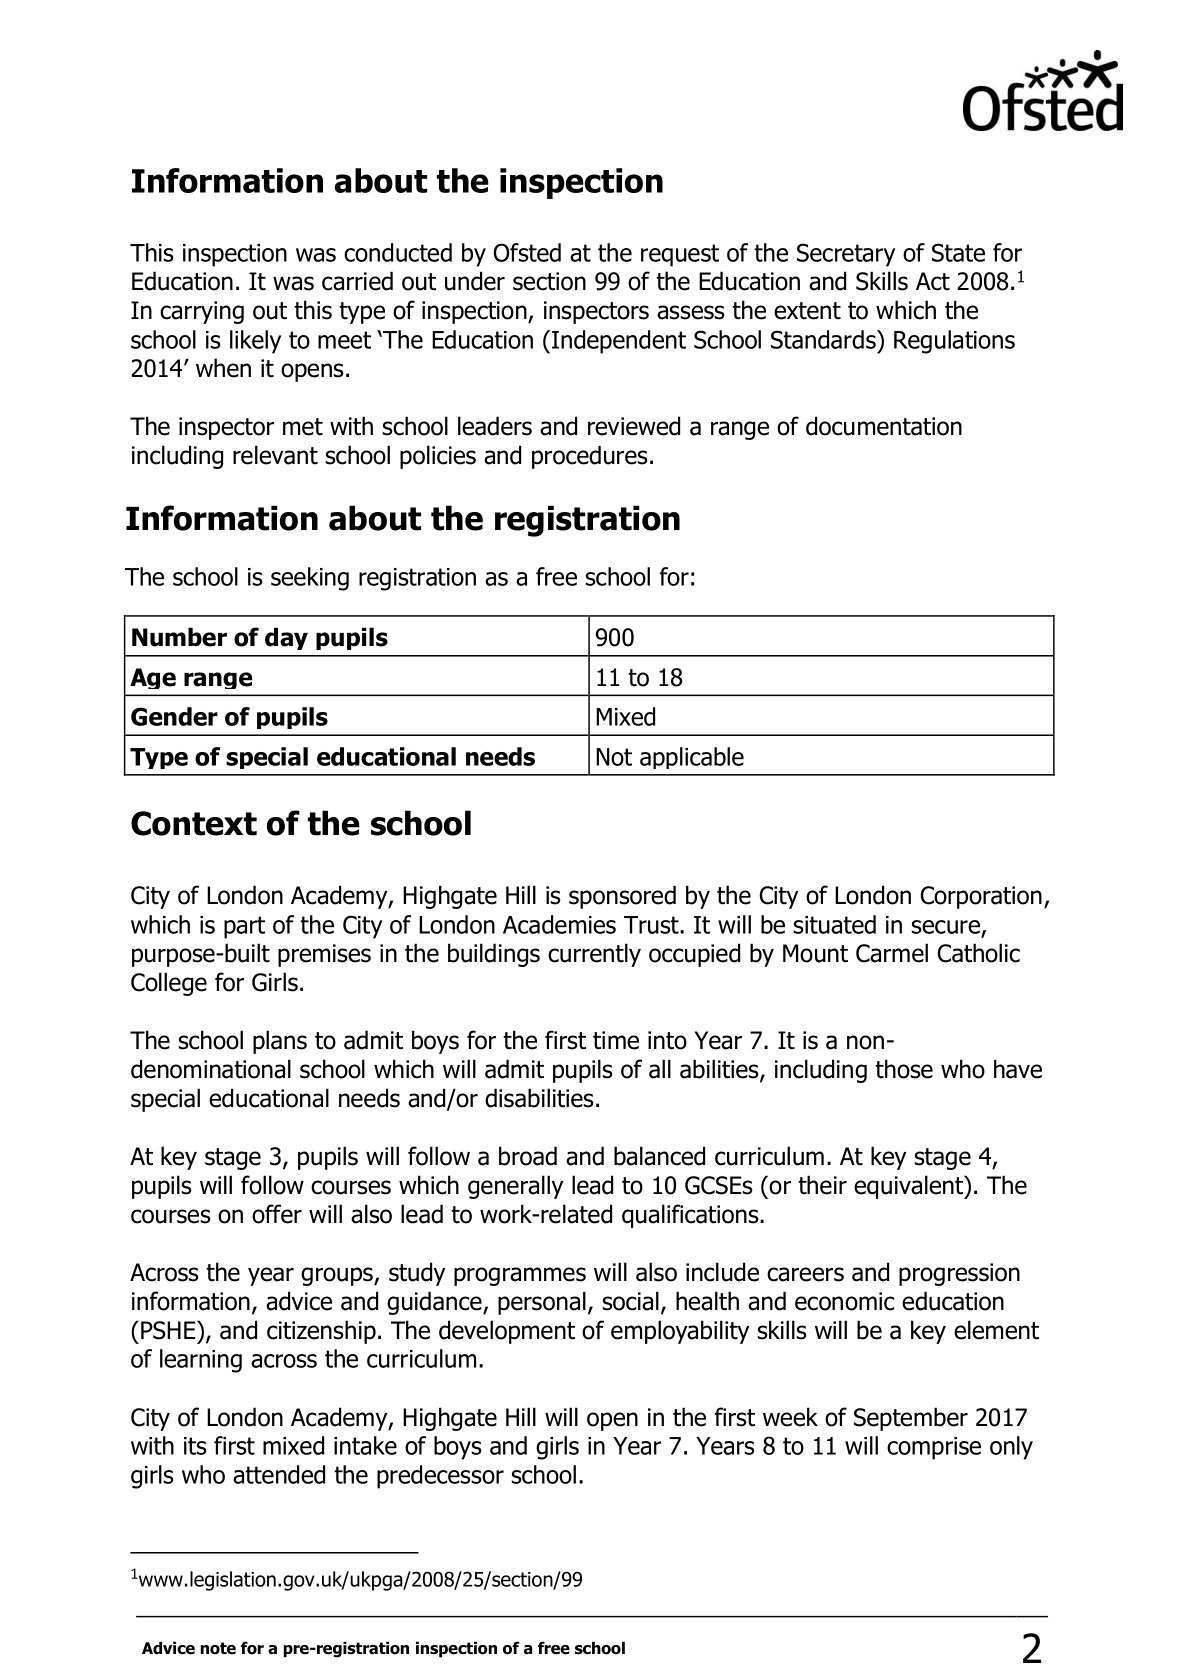full_lined: (123, 613, 1055, 777)
